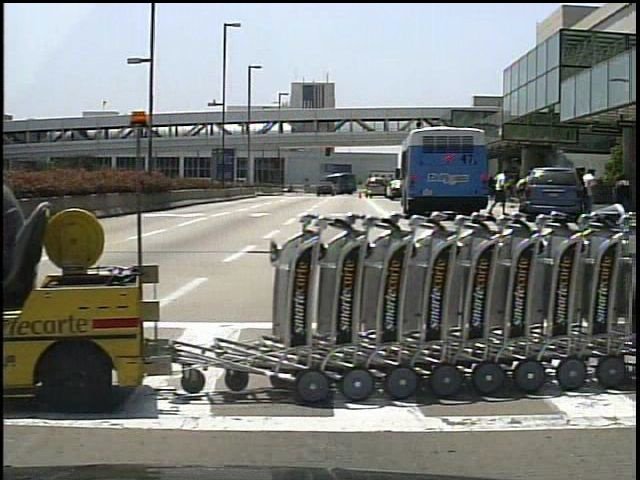person: (6, 139, 25, 299), (580, 165, 601, 214), (492, 166, 512, 216), (514, 168, 534, 217)
